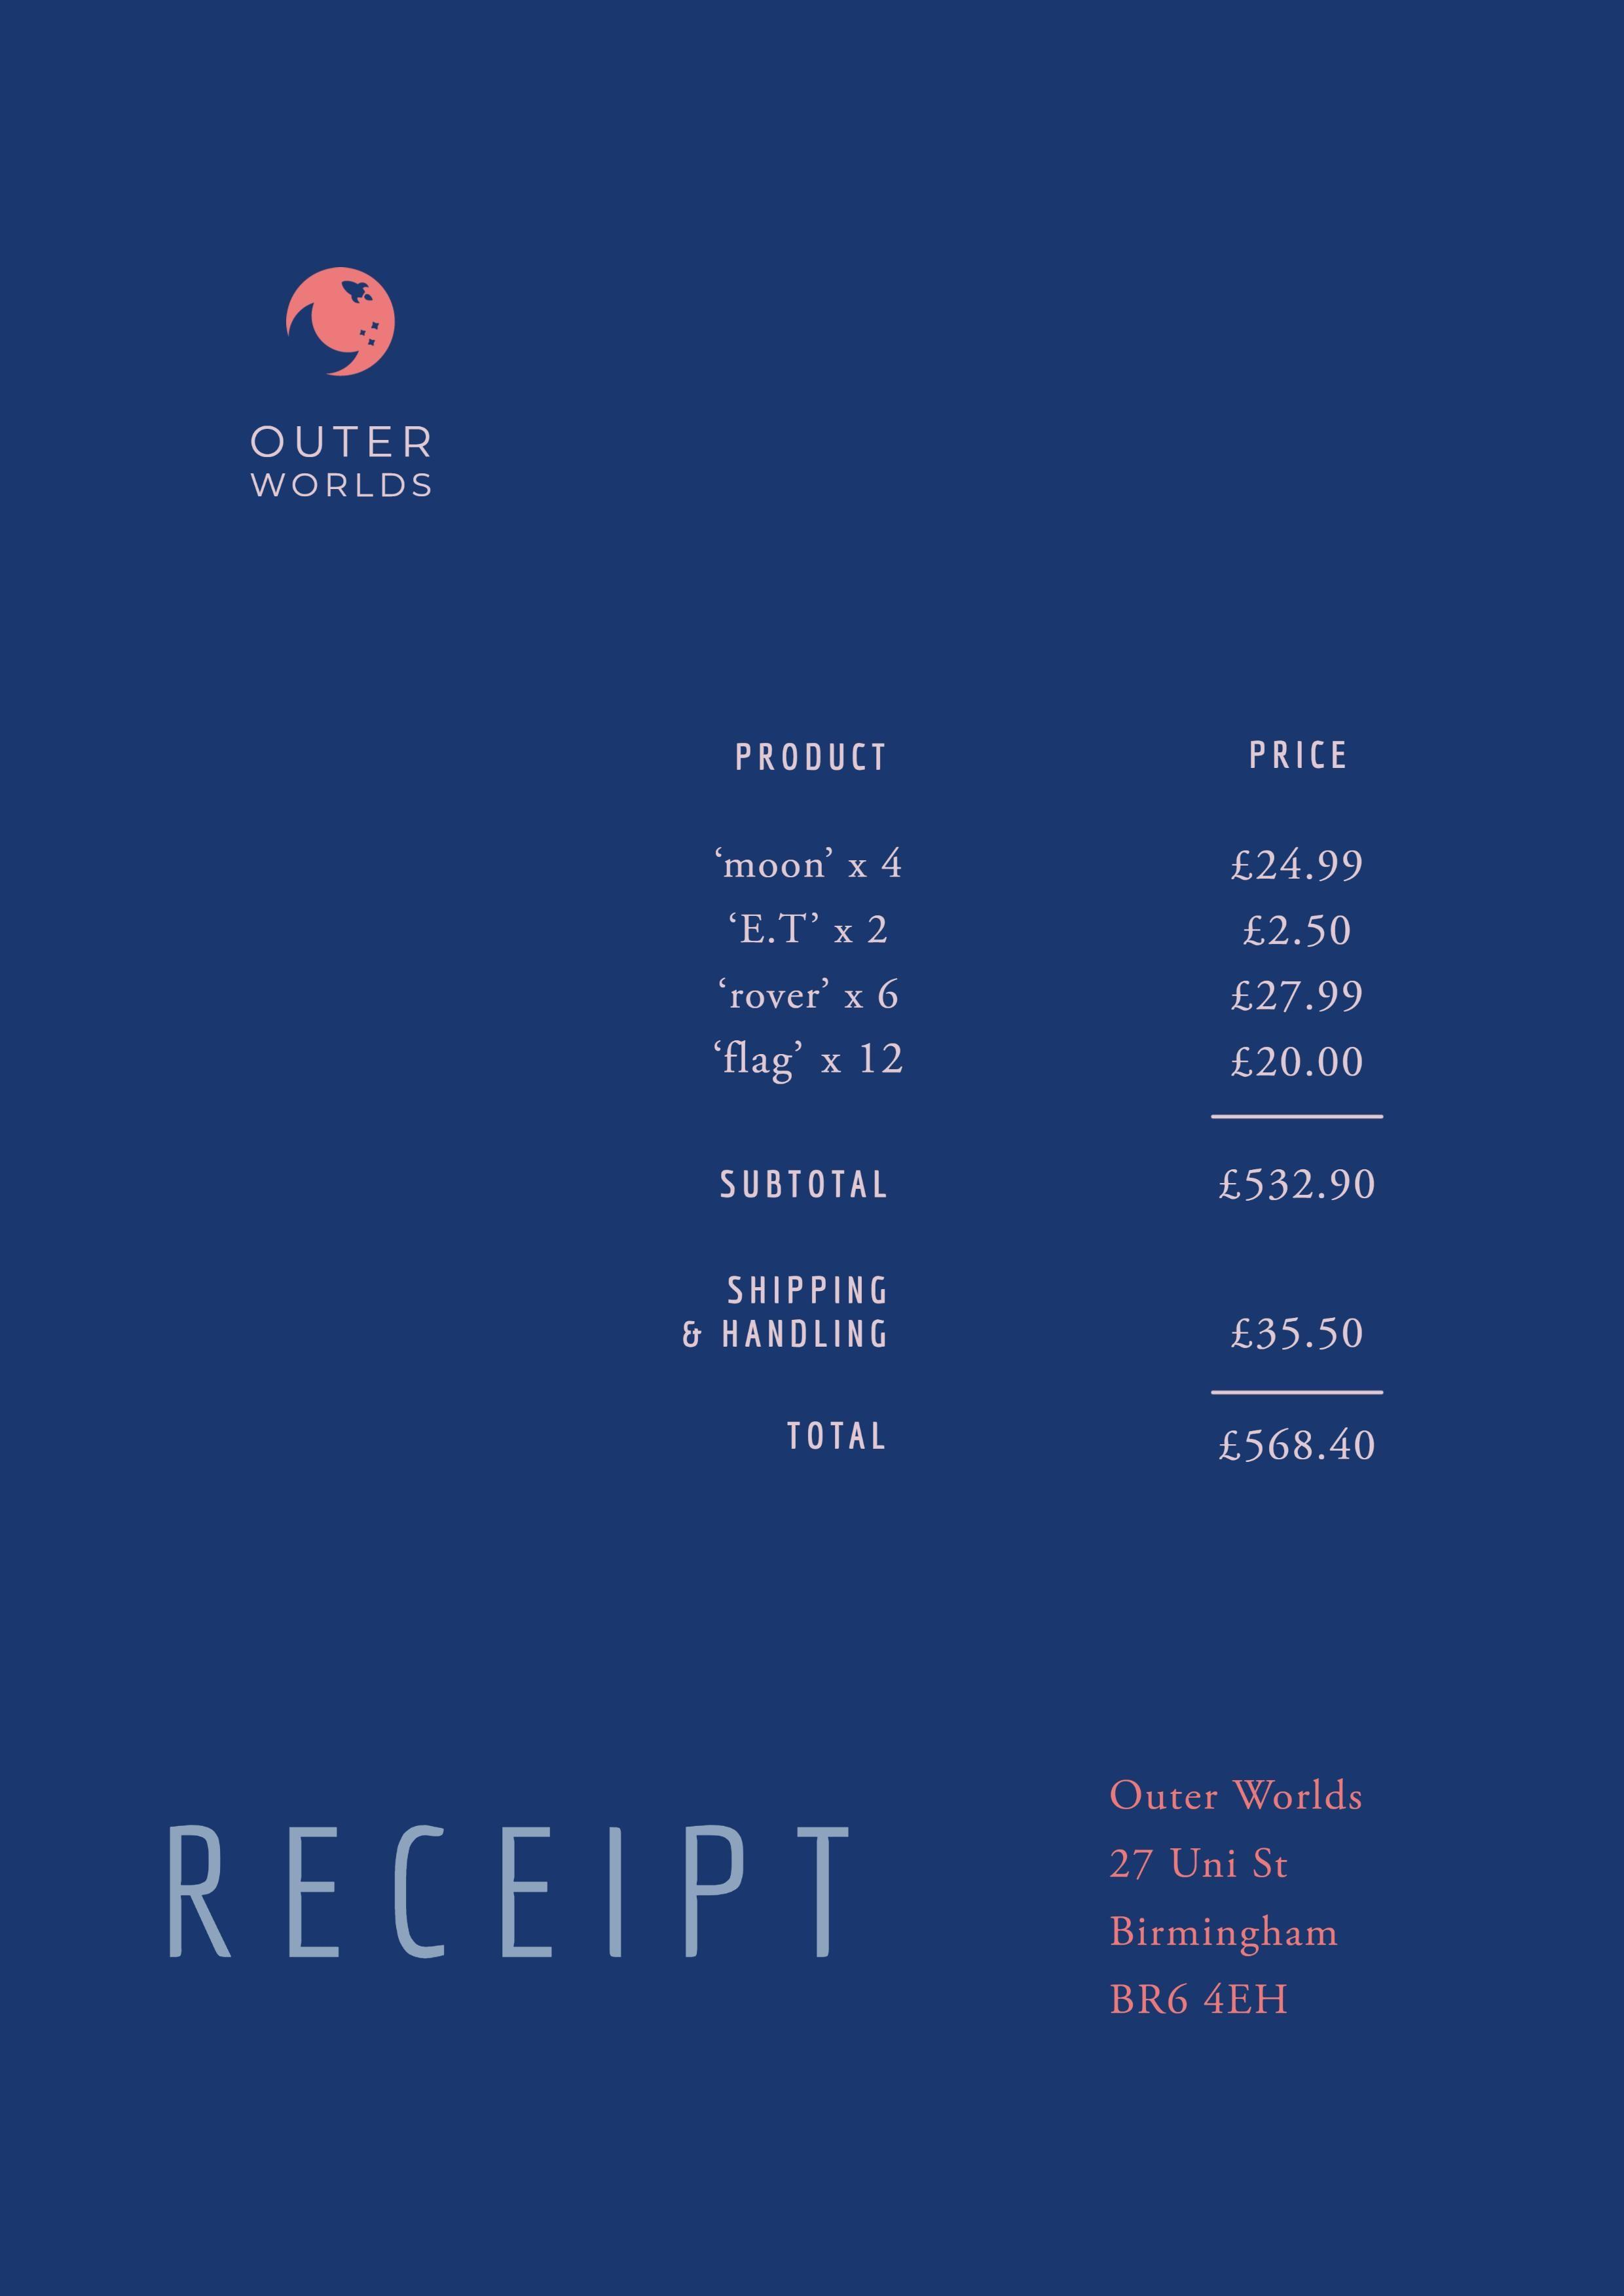ROI: (672, 718, 1407, 1112), (672, 1154, 1379, 1471), (1105, 1732, 1369, 2024)
